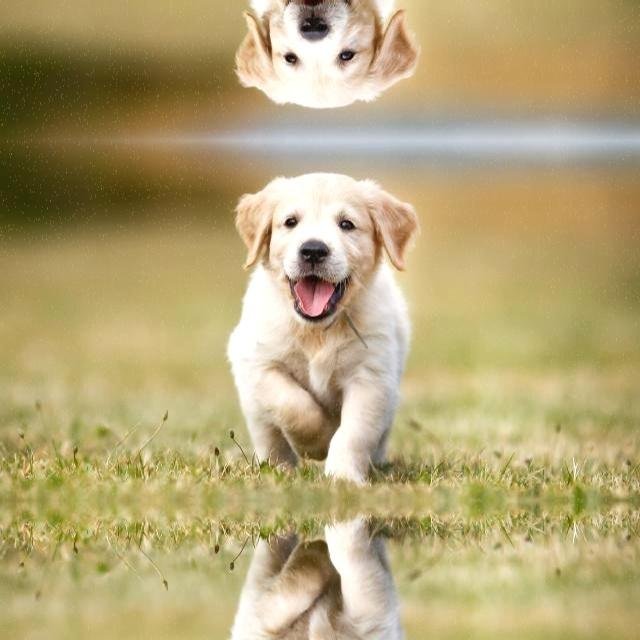dog: (222, 162, 433, 490), (223, 509, 434, 640), (223, 0, 434, 118)
